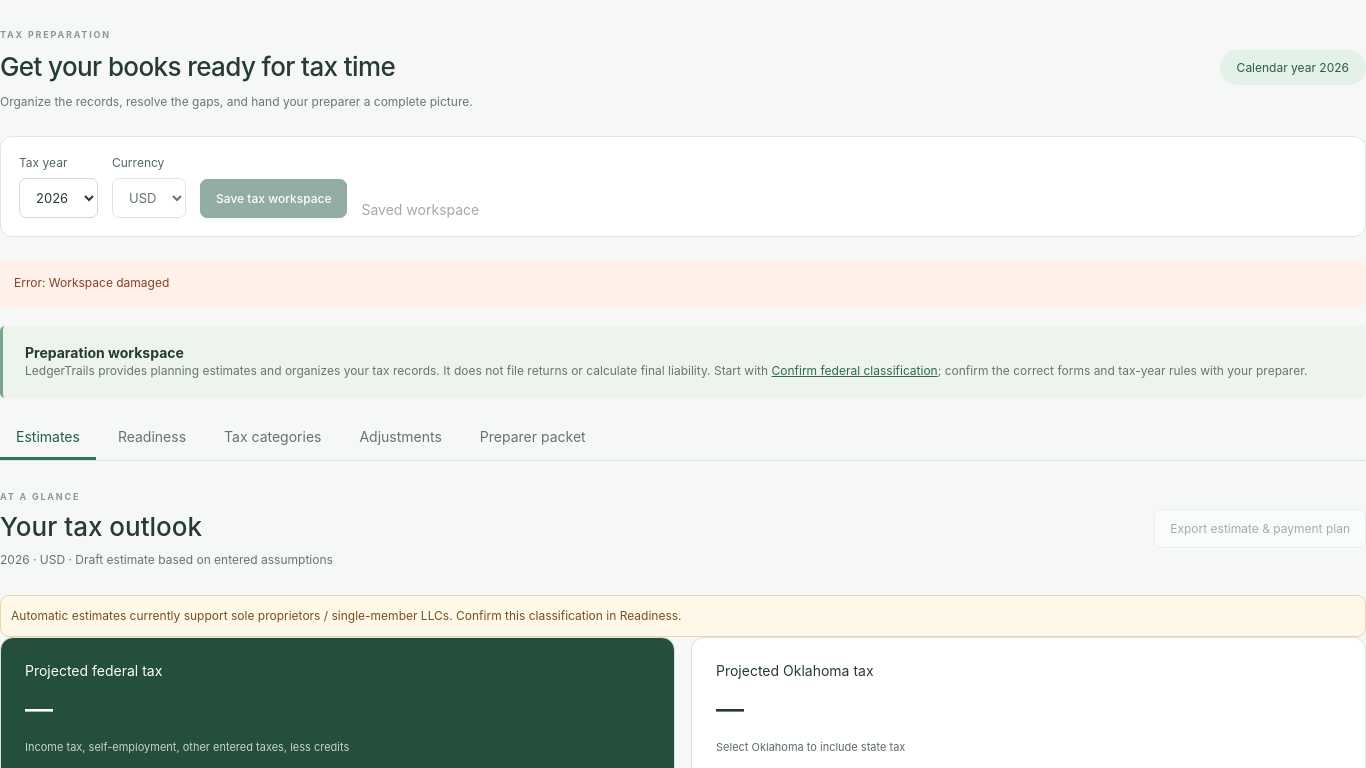
it: workspace load failure disables saving and does not overwrite records
The image size is (1366, 768).
Expected: the message "Error: Workspace damaged" is shown, [0,259,1365,308]
Click the button "Readiness" at {"x": 152, "y": 438}, box [102,416,202,460]
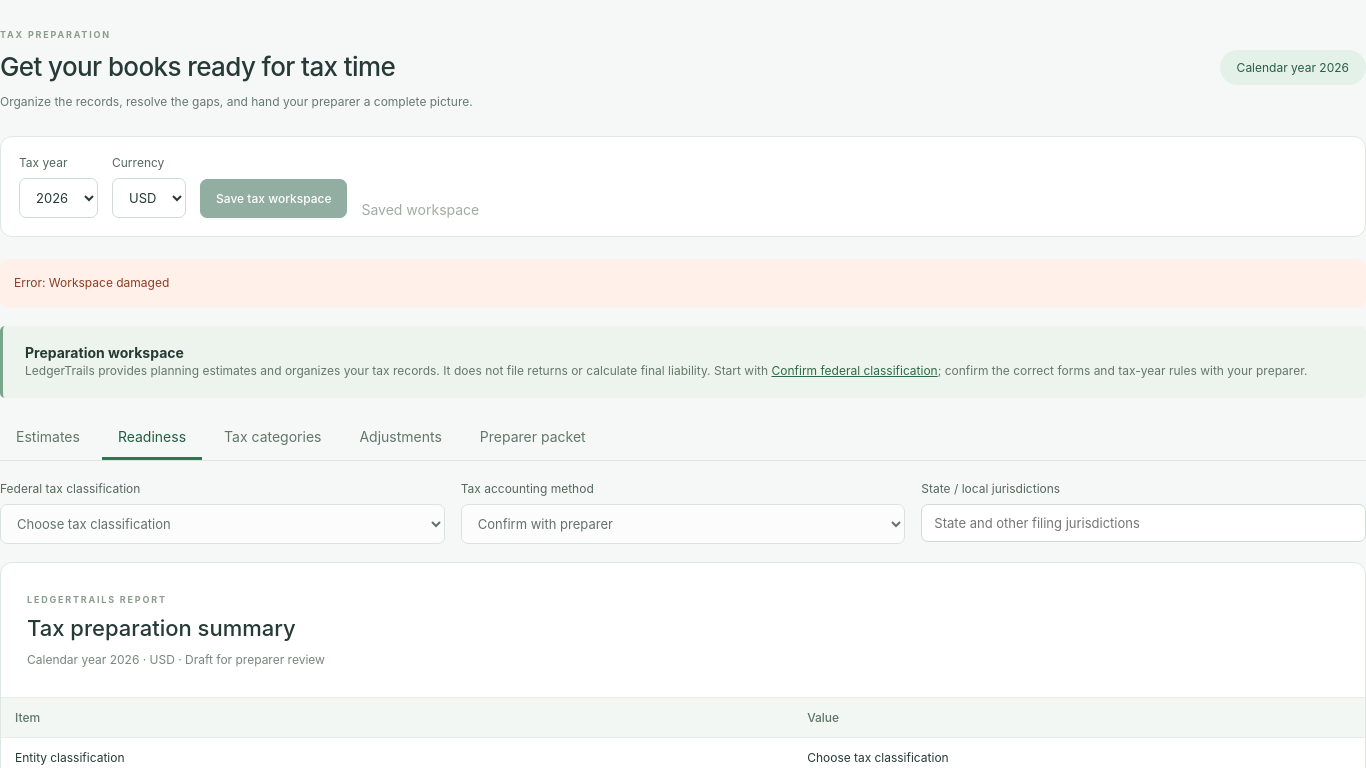
Expected: the dropdown labelled "Federal tax classification" is disabled, [0,504,445,544]
